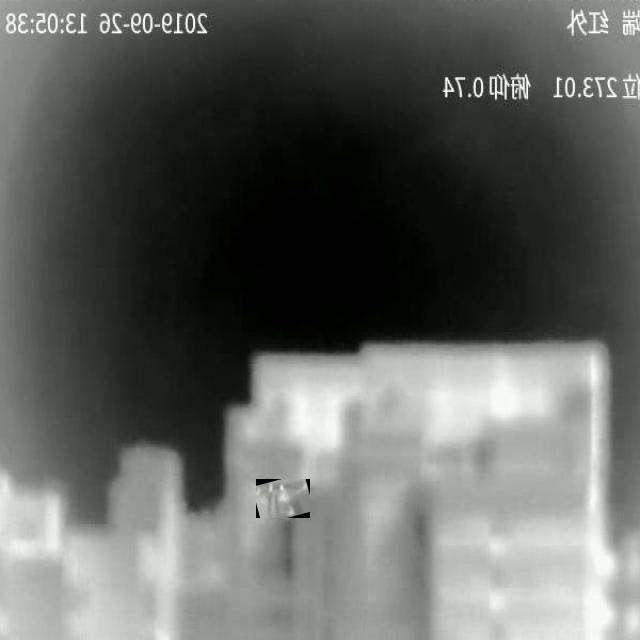drone: (256, 482, 307, 518)
